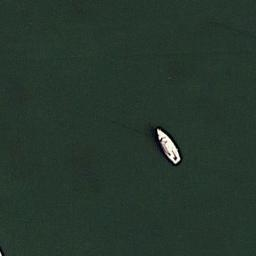boat: (154, 125, 182, 167)
